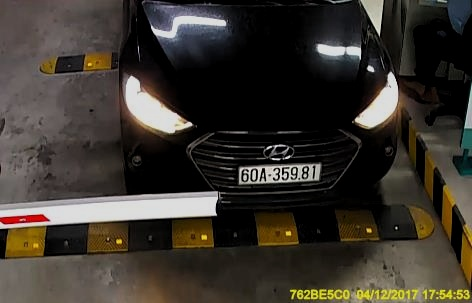plate: (238, 166, 317, 184)
